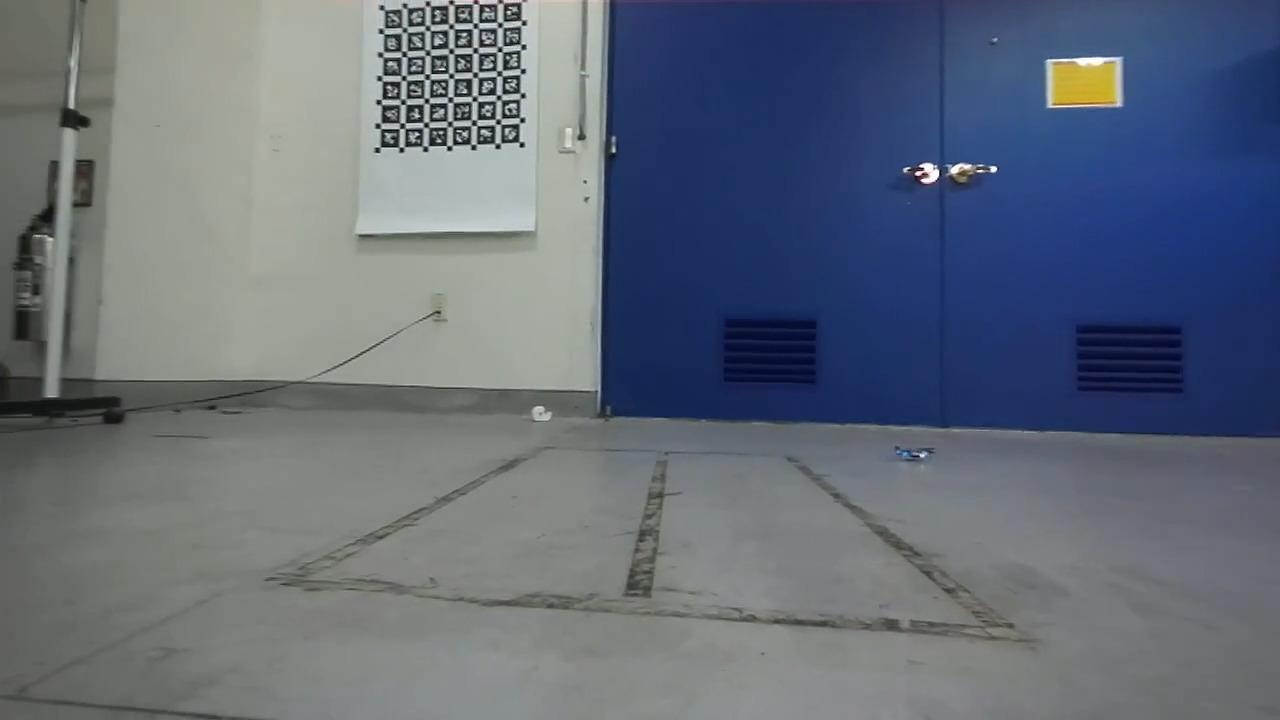crazyflie: (890, 442, 936, 466)
